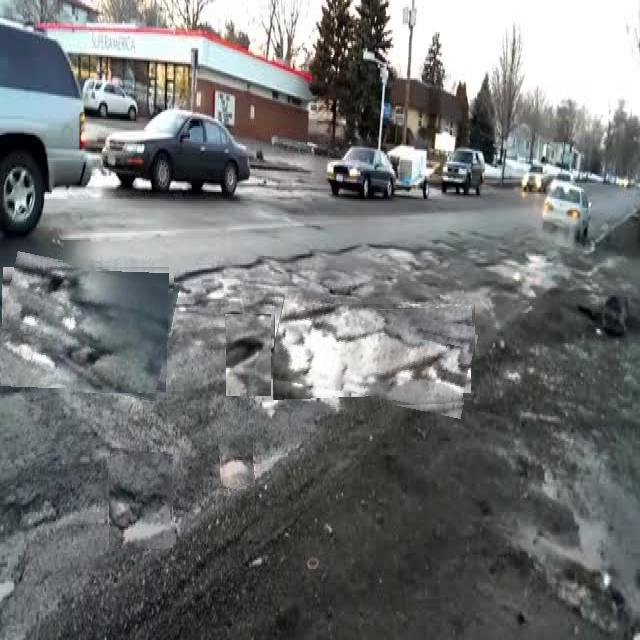Pothole: (0, 259, 174, 393), (271, 304, 475, 410), (109, 453, 175, 549), (226, 314, 271, 396), (219, 435, 254, 489)
